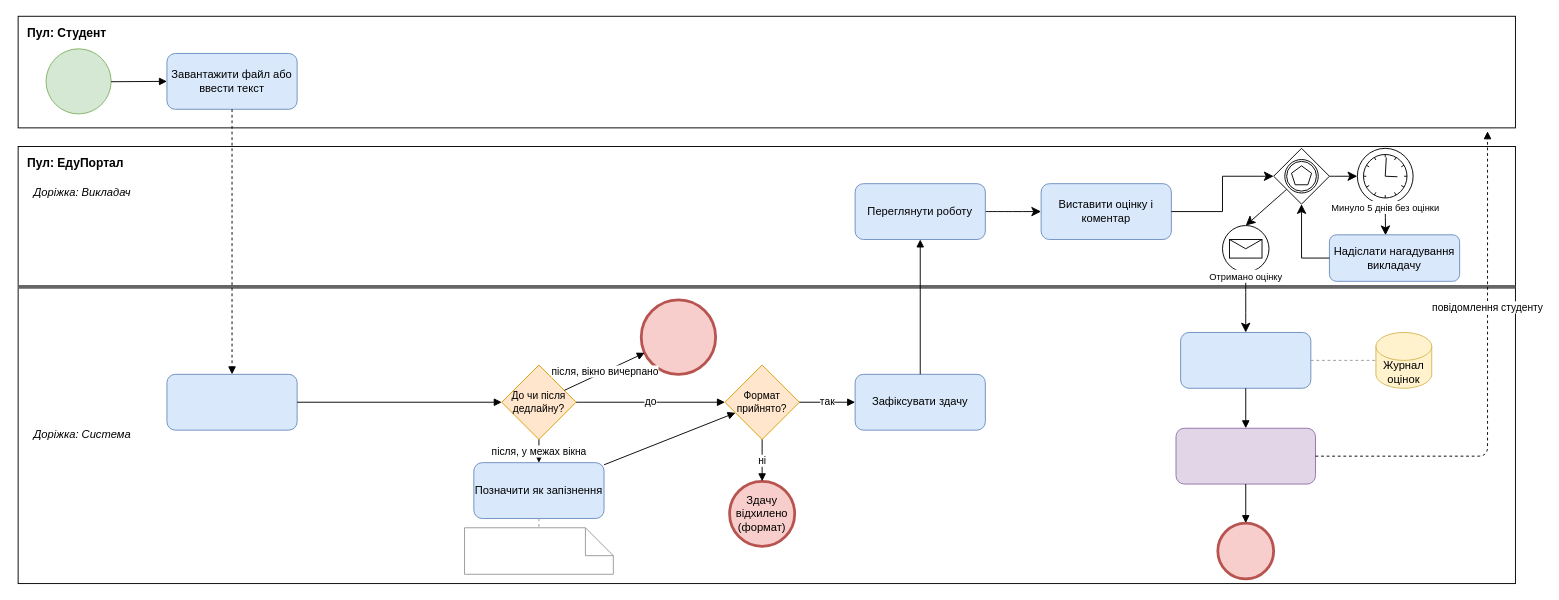
This 1559x600 diagram has some shape labels left out. Each missing label, with the centre of its shape:
Дедлайн минув, здача закрита: (678,336)
Записати оцінку в журнал: (1245,360)
Надіслати повідомлення студенту: (1245,455)
Оцінено: (1245,550)
Перевірити дедлайн і формат файлу: (231,401)
Студент відкрив завдання: (78,81)
Штраф за запізнення рахує GradeCalculator: (538,550)
